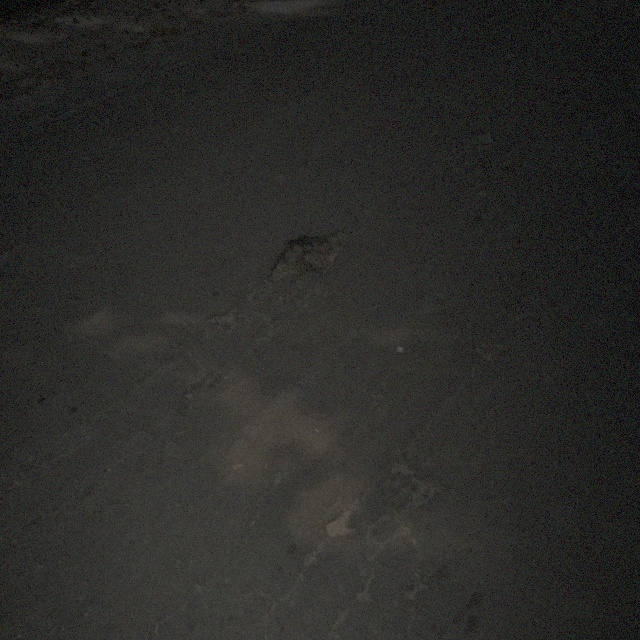pothole: (266, 226, 349, 285), (321, 508, 357, 538), (48, 26, 96, 47), (0, 40, 31, 60), (470, 128, 495, 145), (20, 20, 46, 30), (30, 0, 61, 8), (50, 10, 74, 20), (74, 0, 103, 8), (0, 1, 13, 10), (9, 0, 29, 3)
